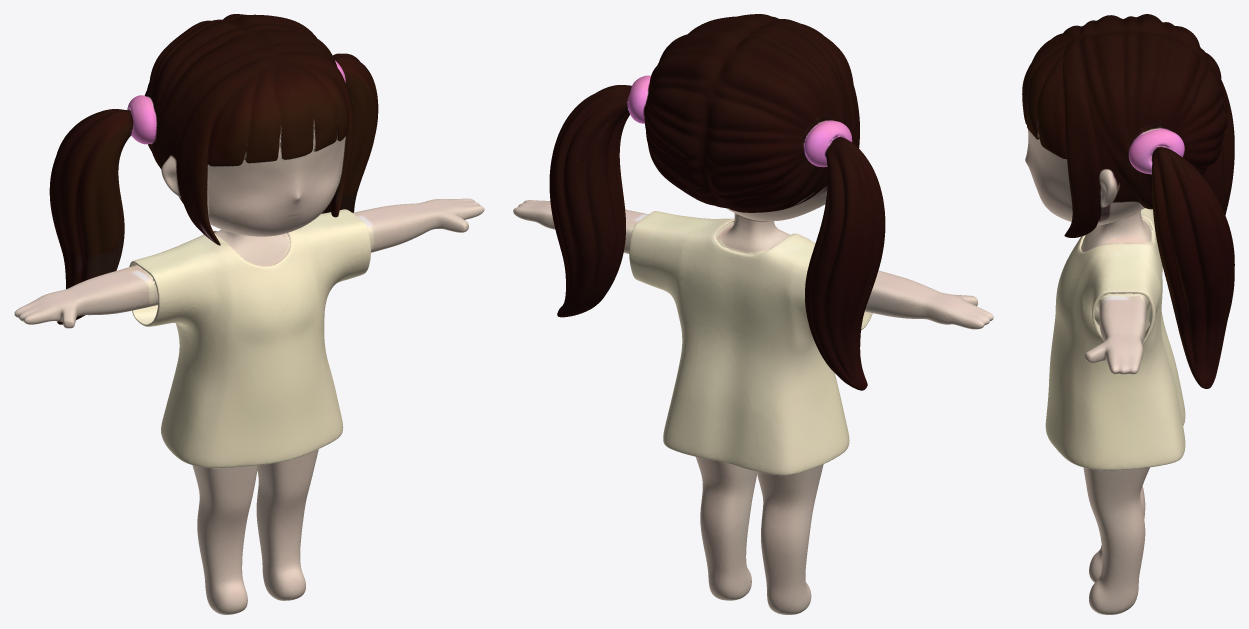
File: baked_hair_twin.glb
3 views of the same model, side by side, from view 1: azimuth 30°, elevation 25°; view 2: azimuth 150°, elevation 25°; view 3: azimuth 270°, elevation 25° (orthographic). The views are drawn at different scales.
Size of the model in its own units: 1.61 by 1.9 by 0.6433.
1 material, 1 textured.
